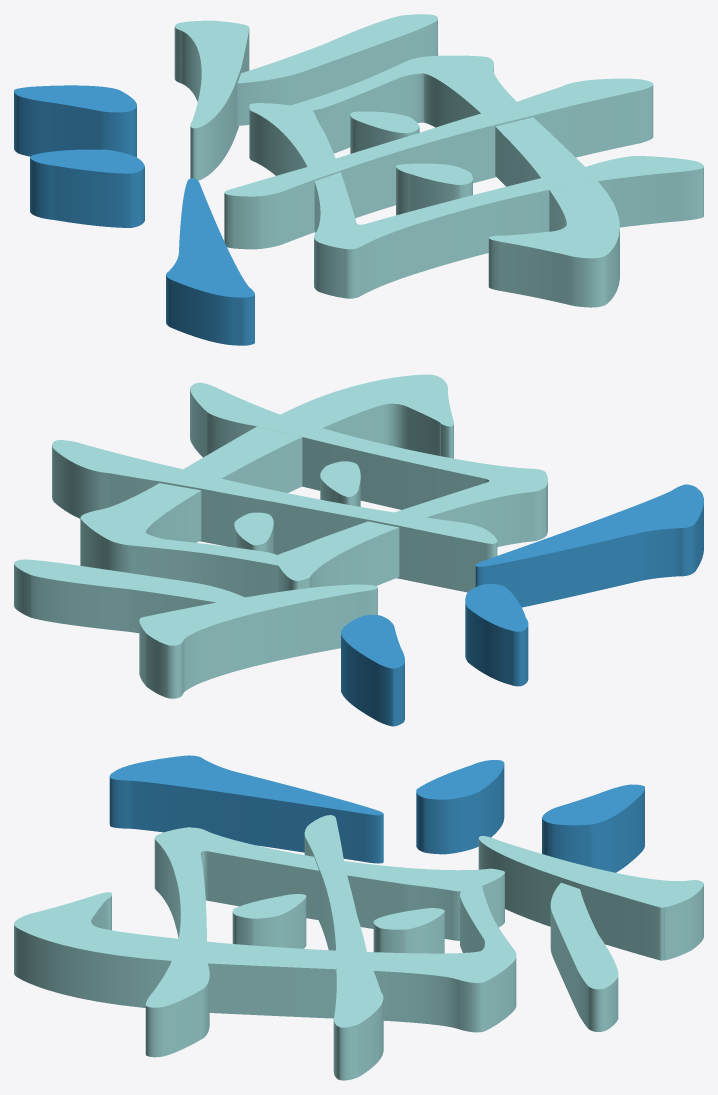
File: hanzi184.fbx
3 views of the same model, one above another, from view 1: azimuth 30°, elevation 25°; view 2: azimuth 150°, elevation 25°; view 3: azimuth 270°, elevation 25° (orthographic).
Visible parts, largest first — view 1: Curve.005, Curve.006, Curve.008, Curve.004, Curve.002, Curve.003, Curve.001, Curve, Curve.009, Curve.007; view 2: Curve.006, Curve.005, Curve.008, Curve.003, Curve.002, Curve.004, Curve, Curve.001, Curve.009, Curve.007; view 3: Curve.006, Curve.005, Curve.002, Curve.003, Curve.008, Curve, Curve.001, Curve.004, Curve.009, Curve.007.
Part boxes in pixels (x1,y1,x2,y2): Curve.005: [249, 103, 703, 298]; Curve.006: [291, 55, 619, 307]; Curve.008: [224, 78, 653, 249]; Curve.004: [237, 14, 437, 125]; Curve.002: [166, 178, 254, 345]; Curve.003: [174, 20, 249, 180]; Curve.001: [30, 149, 144, 227]; Curve: [14, 85, 136, 157]; Curve.009: [396, 163, 472, 215]; Curve.007: [350, 111, 419, 153]; Curve.006: [80, 374, 453, 597]; Curve.005: [190, 382, 547, 591]; Curve.008: [52, 440, 497, 592]; Curve.003: [139, 584, 377, 698]; Curve.002: [475, 484, 703, 607]; Curve.004: [14, 559, 244, 633]; Curve: [341, 614, 404, 726]; Curve.001: [465, 584, 528, 686]; Curve.009: [320, 461, 360, 506]; Curve.007: [234, 512, 273, 553]; Curve.006: [14, 886, 516, 1032]; Curve.005: [145, 827, 504, 1057]; Curve.002: [109, 755, 383, 863]; Curve.003: [478, 836, 703, 960]; Curve.008: [304, 815, 383, 1080]; Curve: [542, 784, 644, 872]; Curve.001: [416, 760, 504, 854]; Curve.004: [550, 882, 618, 1031]; Curve.009: [232, 894, 306, 948]; Curve.007: [373, 908, 444, 953].
Bounding box in the file's own units: 24.11 × 25.61 × 2.37.
